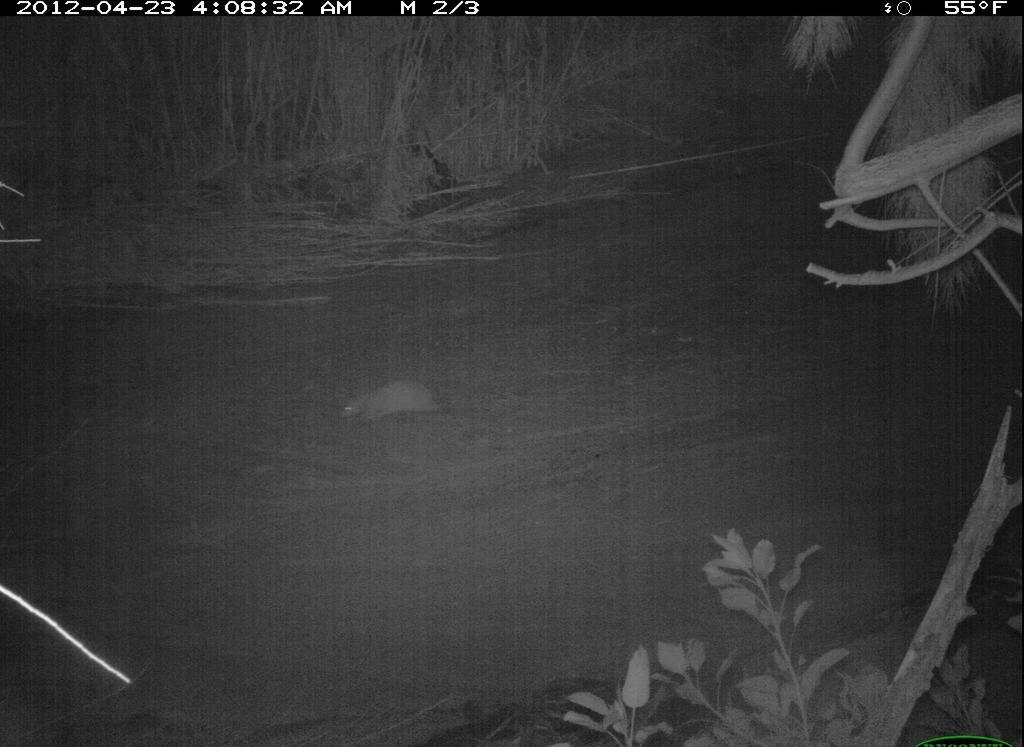opossum: (332, 365, 452, 436)
